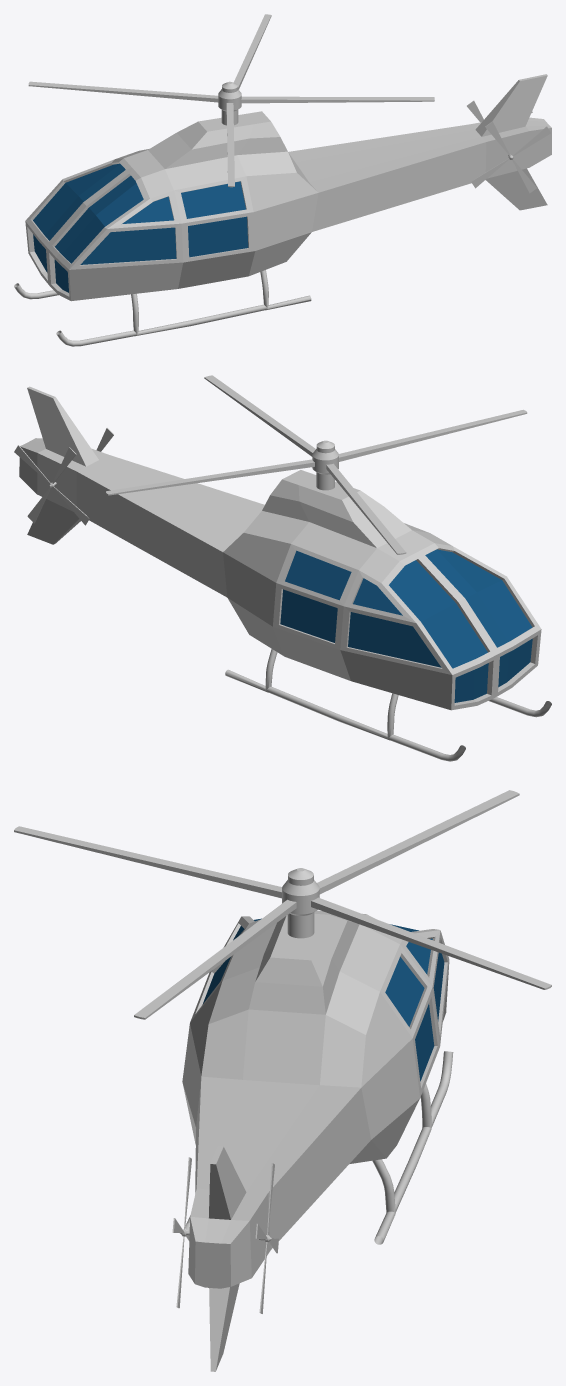
The model's file is helicopter_animation_000173.obj.
3 renders of one model, top to bottom at view 1: azimuth 30°, elevation 25°; view 2: azimuth 150°, elevation 25°; view 3: azimuth 270°, elevation 25°, orthographic. The views are drawn at different scales.
Visible parts, largest first — view 1: Helicopter.007_Cylinder.008, Helicopter.001_Cylinder.001, Helicopter.003_Cylinder.004; view 2: Helicopter.007_Cylinder.008, Helicopter.001_Cylinder.001, Helicopter.004_Cylinder.005; view 3: Helicopter.007_Cylinder.008, Helicopter.001_Cylinder.001, Helicopter.004_Cylinder.005.
Part boxes in pixels (x1,y1,x2,y2): Helicopter.007_Cylinder.008: (14,74,551,346); Helicopter.001_Cylinder.001: (28,14,434,187); Helicopter.003_Cylinder.004: (471,121,550,193); Helicopter.007_Cylinder.008: (19,386,551,761); Helicopter.001_Cylinder.001: (106,375,527,554); Helicopter.004_Cylinder.005: (14,445,89,525); Helicopter.007_Cylinder.008: (182,910,453,1371); Helicopter.001_Cylinder.001: (14,790,551,1019); Helicopter.004_Cylinder.005: (255,1163,278,1313).
Size of the model in its own units: 7.55 by 3.2 by 4.6.
